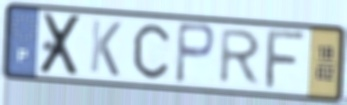C: (131, 22, 172, 82)
F: (262, 29, 310, 92)
K: (87, 17, 124, 80)
P: (173, 20, 218, 87)
R: (216, 27, 264, 87)
X: (36, 11, 85, 77)
